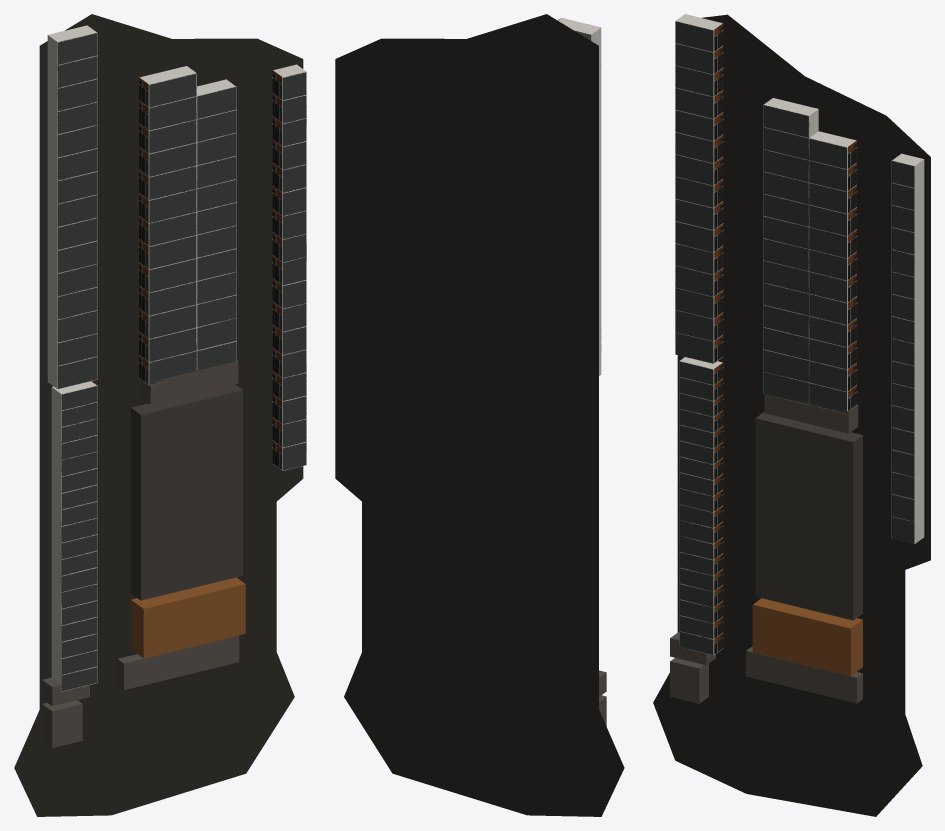
File: ldg-phase2-detailed-rows.obj
3 renders of one model, left to right at view 1: azimuth 30°, elevation 25°; view 2: azimuth 150°, elevation 25°; view 3: azimuth 330°, elevation 25°, orthographic. The views are drawn at different scales.
Visible parts, largest first — view 1: site_pavement, amenity_the_gallery, amenity_luxe_club, amenity_valet, amenity_detail_bay, amenity_lounge, unit_13_roof, unit_04_roof, unit_02_roof, unit_06_roof, unit_07_roof, unit_12_roof (+70 smaller); view 2: site_pavement; view 3: site_pavement, amenity_the_gallery, amenity_luxe_club, amenity_valet, amenity_detail_bay, amenity_lounge, unit_13_roof, unit_06_roof, unit_01_roof, unit_02_roof, unit_11_roof, unit_05_roof (+70 smaller).
Part boxes in pixels (left/top/right/bottom): site_pavement: left=14, top=14, right=303, bottom=816; amenity_the_gallery: left=131, top=384, right=242, bottom=600; amenity_luxe_club: left=131, top=577, right=245, bottom=658; amenity_valet: left=117, top=635, right=239, bottom=689; amenity_detail_bay: left=140, top=360, right=238, bottom=404; amenity_lounge: left=42, top=700, right=82, bottom=747; unit_13_roof: left=149, top=73, right=196, bottom=107; unit_04_roof: left=149, top=282, right=196, bottom=315; unit_02_roof: left=149, top=328, right=196, bottom=361; unit_06_roof: left=149, top=235, right=196, bottom=269; unit_07_roof: left=149, top=212, right=196, bottom=246; unit_12_roof: left=149, top=97, right=196, bottom=130; site_pavement: left=335, top=14, right=624, bottom=816; site_pavement: left=653, top=14, right=930, bottom=816; amenity_the_gallery: left=755, top=412, right=862, bottom=620; amenity_luxe_club: left=752, top=598, right=862, bottom=676; amenity_valet: left=746, top=646, right=862, bottom=703; amenity_detail_bay: left=764, top=394, right=858, bottom=433; amenity_lounge: left=670, top=657, right=708, bottom=703; unit_13_roof: left=763, top=105, right=809, bottom=137; unit_06_roof: left=763, top=261, right=808, bottom=293; unit_01_roof: left=763, top=372, right=808, bottom=404; unit_02_roof: left=763, top=350, right=808, bottom=382; unit_11_roof: left=763, top=150, right=808, bottom=182; unit_05_roof: left=763, top=283, right=808, bottom=315.
Bounding box in the file's own units: 366 × 975 × 28.25.
